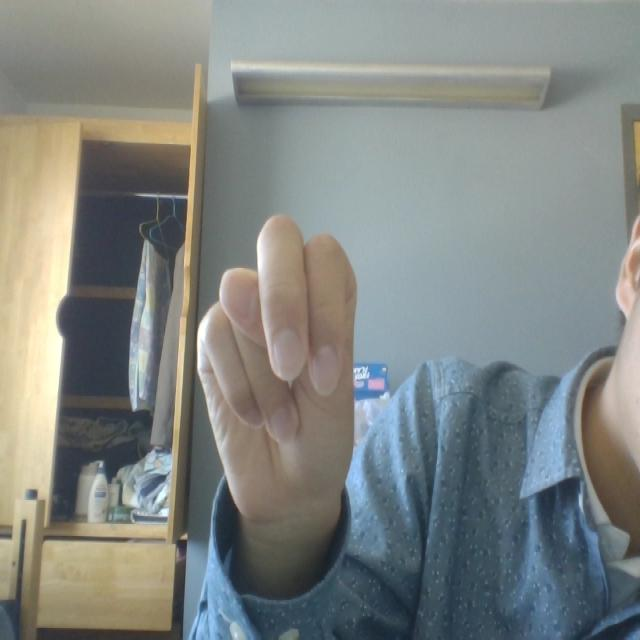N: (174, 191, 423, 575)
